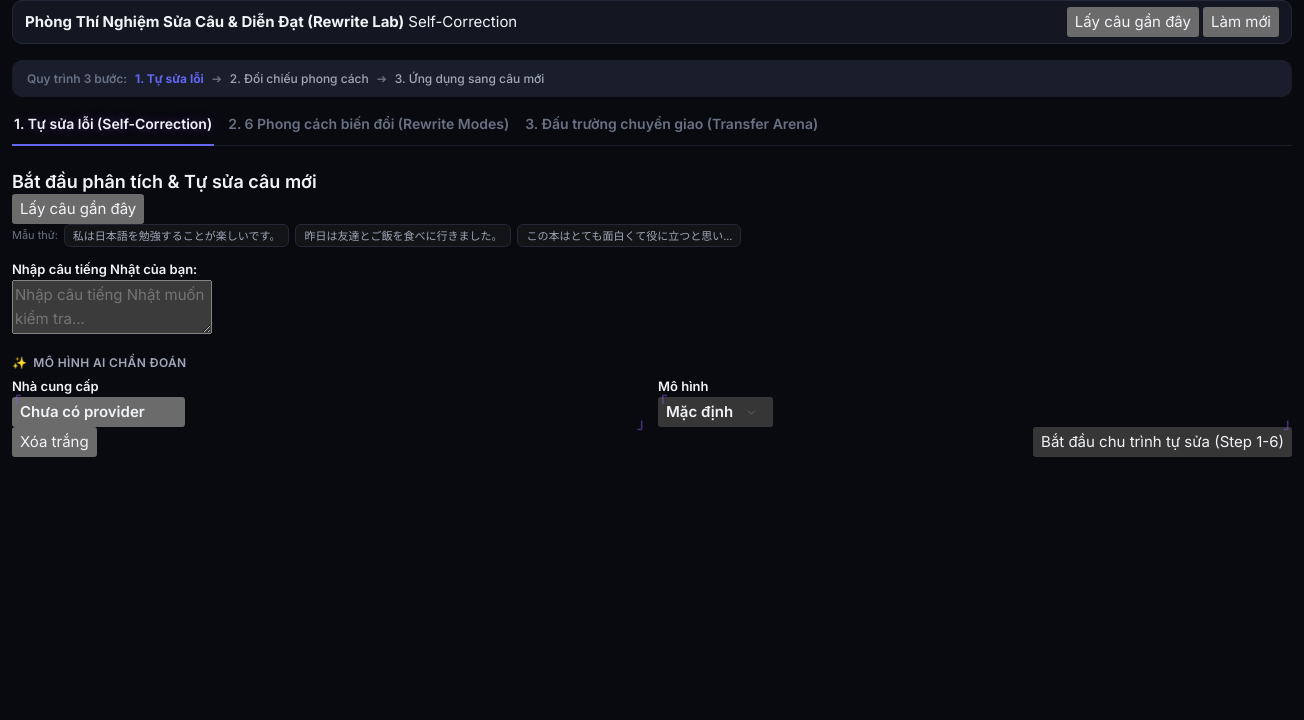
Scenario: RewriteLabPage (Phase 19) › starts a self-correction session and advances to ladder view
Step 1. Type "私は日本語を勉強することが楽しいです。" into the text box labelled "Nhập câu tiếng Nhật của bạn:" → (112, 307), box x1=12 y1=280 x2=212 y2=334
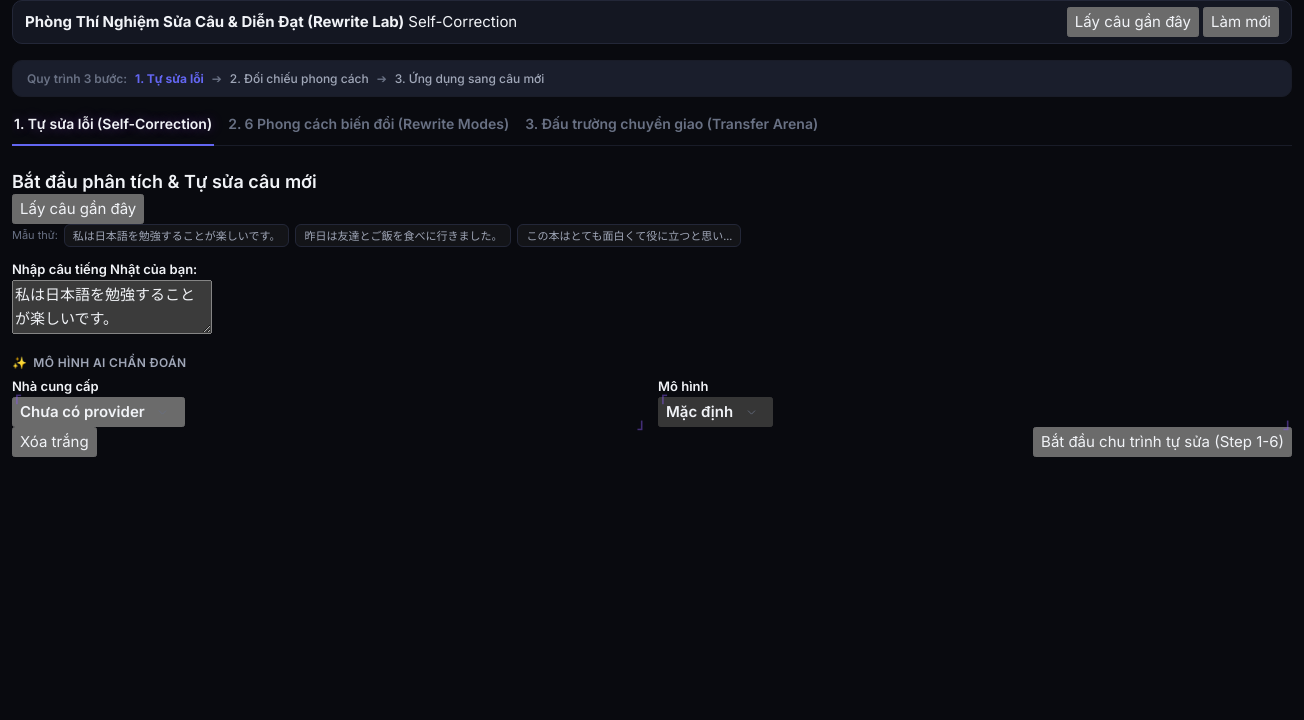
Step 2. Click the button with aria-label "Bắt đầu tự sửa câu này" → (1163, 442), box x1=1033 y1=427 x2=1292 y2=457
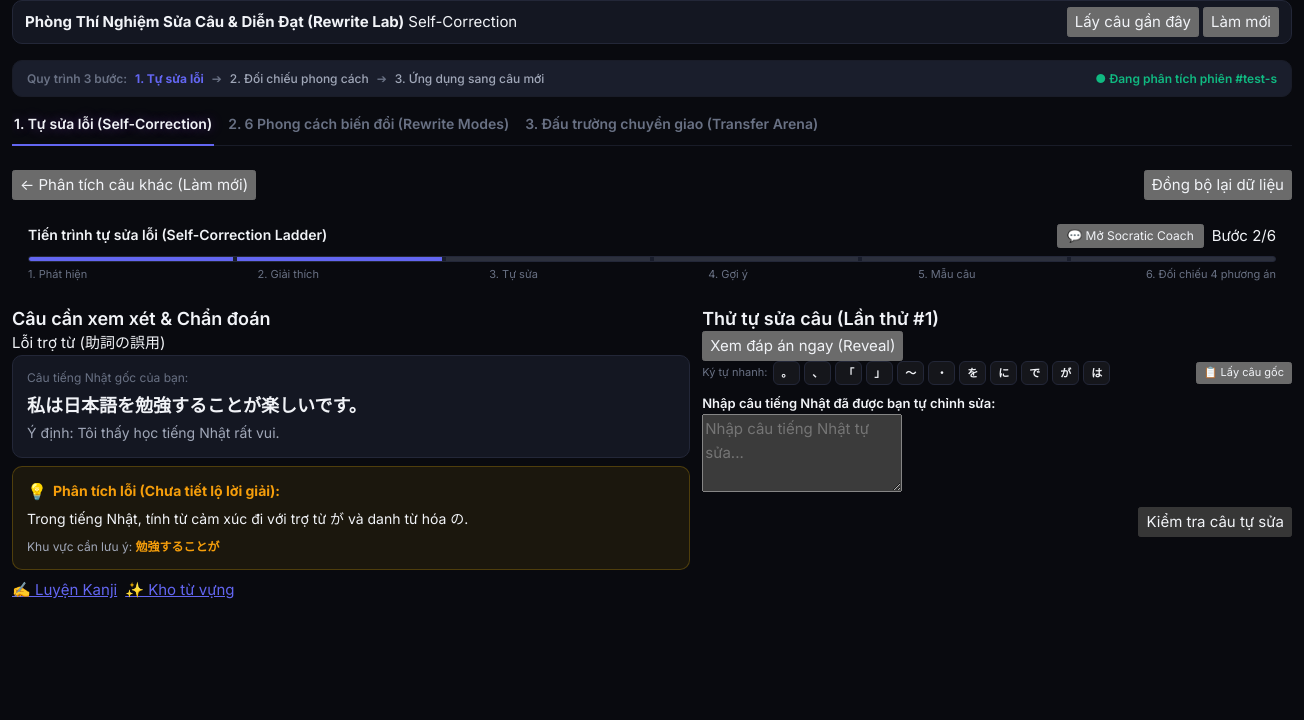
Now the text "Lỗi trợ từ (助詞の誤用)" is shown, box x1=12 y1=332 x2=165 y2=356
Now the text "Tiến trình tự sửa lỗi (Self-Correction Ladder)" is shown, box x1=28 y1=224 x2=327 y2=247
